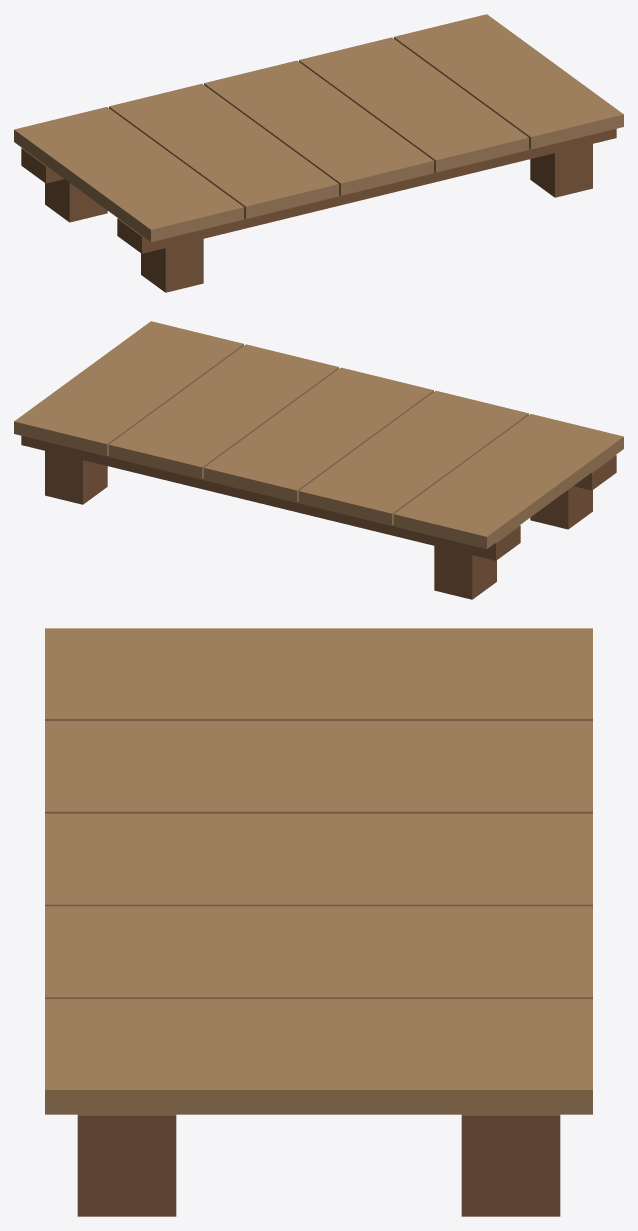
3 renders of one model, top to bottom at view 1: azimuth 30°, elevation 25°; view 2: azimuth 150°, elevation 25°; view 3: azimuth 270°, elevation 25°, orthographic. The views are drawn at different scales.
Visible parts, largest first — view 1: village-low-entry-landing-01; view 2: village-low-entry-landing-01; view 3: village-low-entry-landing-01.
Boxes of the visible parts, x1=… form: village-low-entry-landing-01: x1=14, y1=14, x2=623, y2=292; village-low-entry-landing-01: x1=14, y1=321, x2=623, y2=599; village-low-entry-landing-01: x1=45, y1=628, x2=592, y2=1216.
Size of the model in its own units: 2 by 0.3 by 1.
